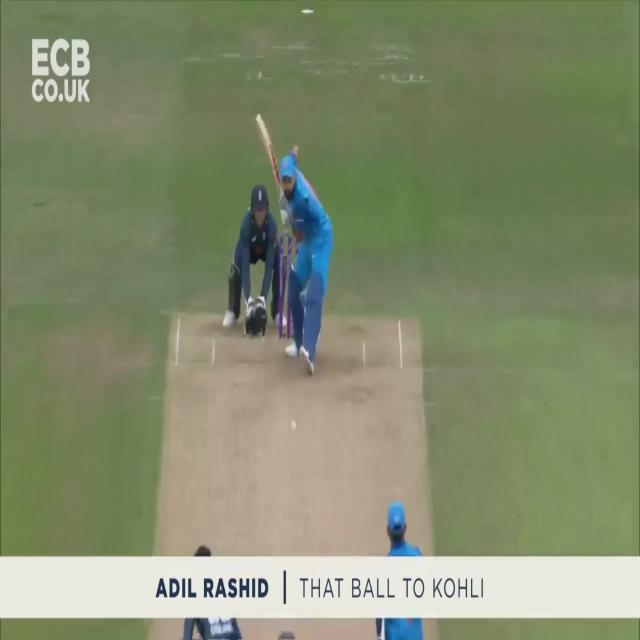cricketBall: (291, 421, 296, 431)
